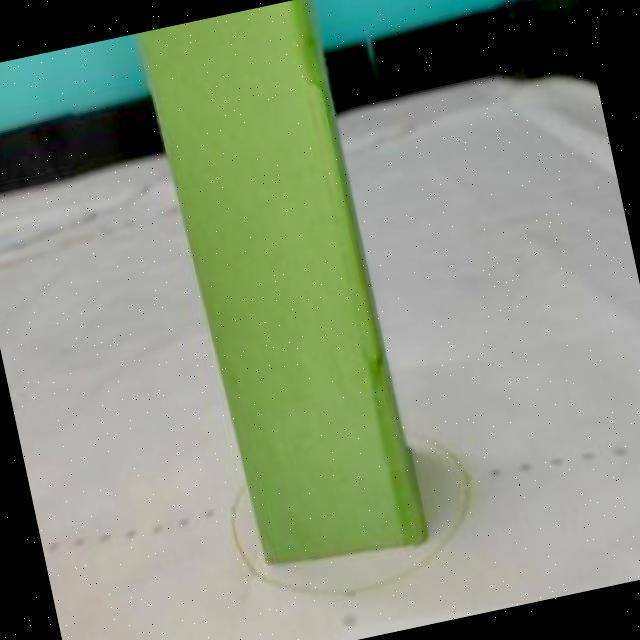greenbox: (139, 0, 433, 577)
